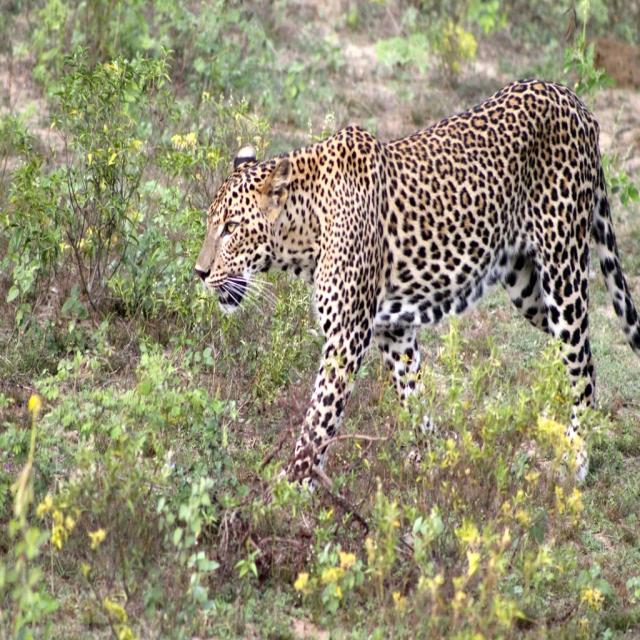Cheetah: (186, 68, 640, 488)
